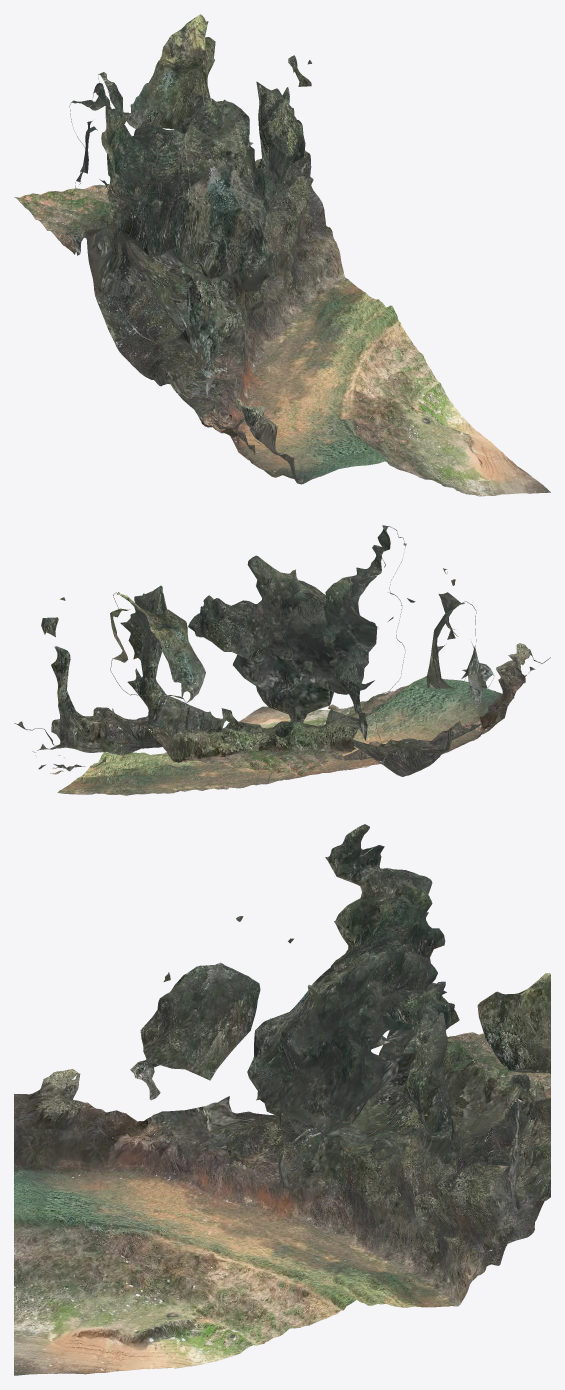
Rendered from BlockYAYY_L20_66.glb.
3 renders of one model, top to bottom at view 1: azimuth 30°, elevation 25°; view 2: azimuth 150°, elevation 25°; view 3: azimuth 270°, elevation 25°, orthographic. The views are drawn at different scales.
Parts seen in each view (by area): view 1: rtc; view 2: rtc; view 3: rtc.
Boxes of the visible parts, x1,y1,x2,y2 form: rtc: (14,14,550,496); rtc: (14,525,550,795); rtc: (14,824,550,1375).
Bounding box in the file's own units: 24.49 × 30.01 × 36.52.
4 materials, 4 textured.
